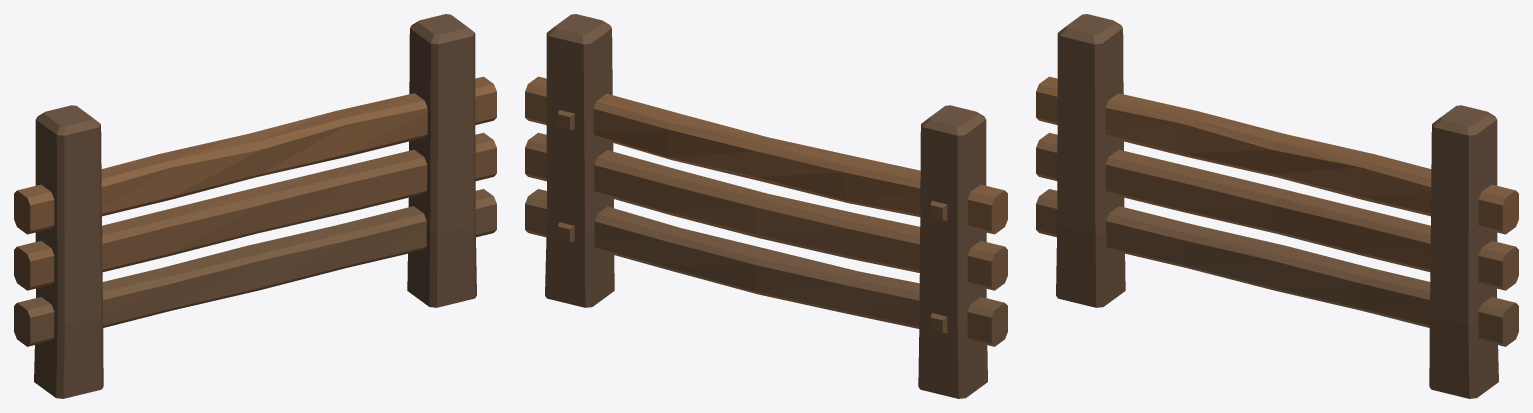
Rendered from campground-rail-fence-run-524013.glb.
The picture shows the model from 3 angles, left to right: view 1: azimuth 30°, elevation 25°; view 2: azimuth 150°, elevation 25°; view 3: azimuth 330°, elevation 25°; orthographic projection.
Parts seen in each view (by area): view 1: fence; view 2: fence; view 3: fence.
Boxes of the visible parts, x1,y1,x2,y2 form: fence: (14, 14, 496, 398); fence: (525, 14, 1007, 398); fence: (1036, 14, 1518, 398).
Bounding box in the file's own units: 2 × 1.1 × 0.2224.
